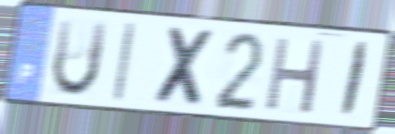2: (213, 30, 266, 113)
H: (262, 33, 328, 117)
I: (337, 39, 373, 122), (110, 21, 139, 105)
U: (49, 17, 111, 101)
X: (151, 24, 219, 111)
